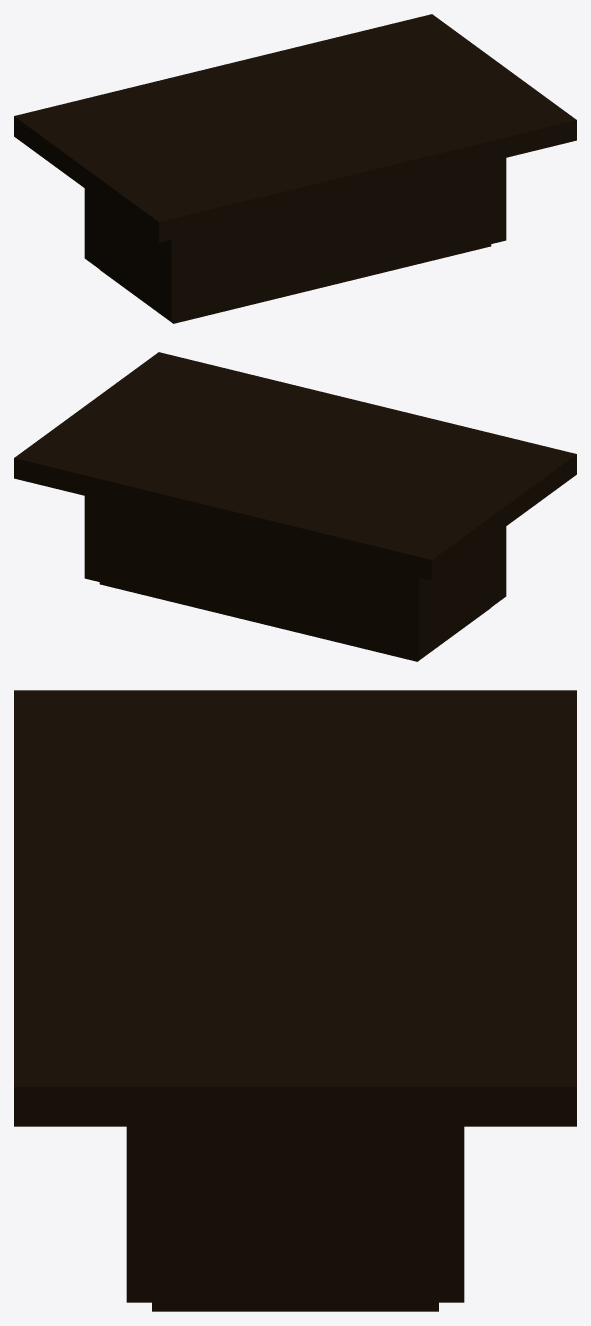
The model's file is RectangleTable.fbx.
3 renders of one model, top to bottom at view 1: azimuth 30°, elevation 25°; view 2: azimuth 150°, elevation 25°; view 3: azimuth 270°, elevation 25°, orthographic. The views are drawn at different scales.
Parts seen in each view (by area): view 1: RectangleTable; view 2: RectangleTable; view 3: RectangleTable.
Boxes of the visible parts, x1,y1,x2,y2 form: RectangleTable: (14, 14, 576, 323); RectangleTable: (14, 352, 576, 661); RectangleTable: (14, 690, 576, 1311).
Bounding box in the file's own units: 250 × 80 × 150.
